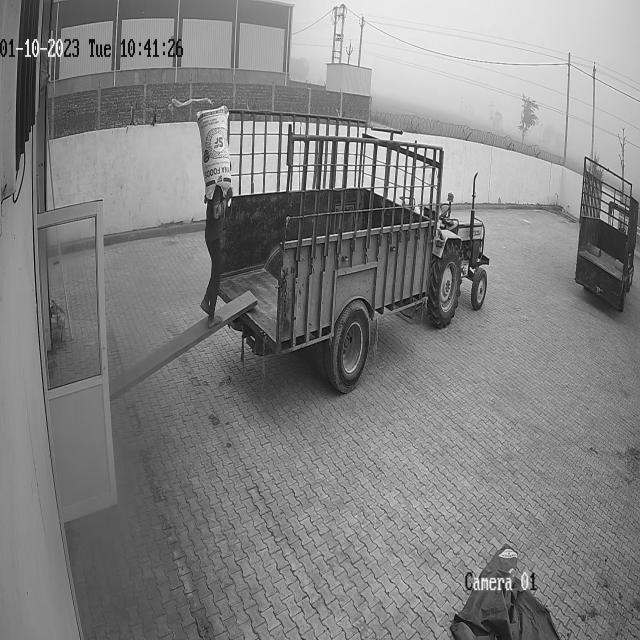sack: (195, 106, 231, 200)
